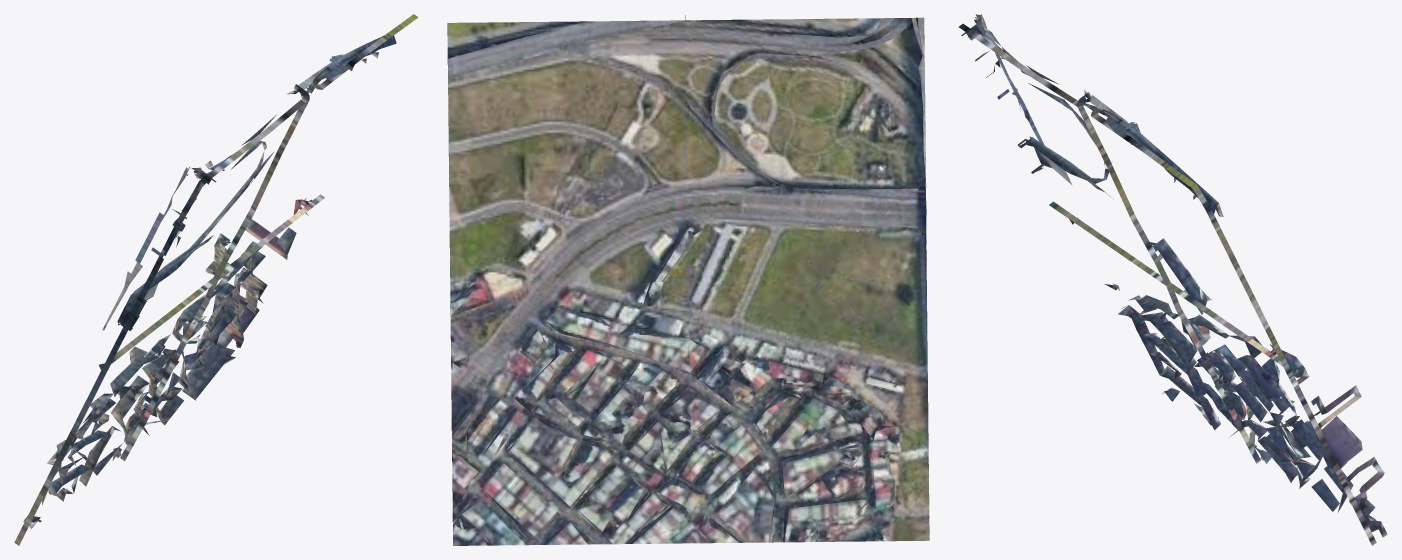
3 renders of one model, left to right at view 1: azimuth 30°, elevation 25°; view 2: azimuth 150°, elevation 25°; view 3: azimuth 270°, elevation 25°, orthographic. The views are drawn at different scales.
Size of the model in its own units: 612 by 569 by 530.
Materials: 2 (2 with a texture image).
